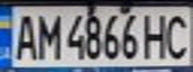4: (63, 9, 84, 60)
6: (118, 10, 142, 61), (103, 10, 124, 61)
8: (81, 10, 106, 61)
A: (9, 10, 39, 61)
C: (163, 10, 193, 60)
H: (139, 10, 172, 61)
M: (33, 10, 63, 61)
